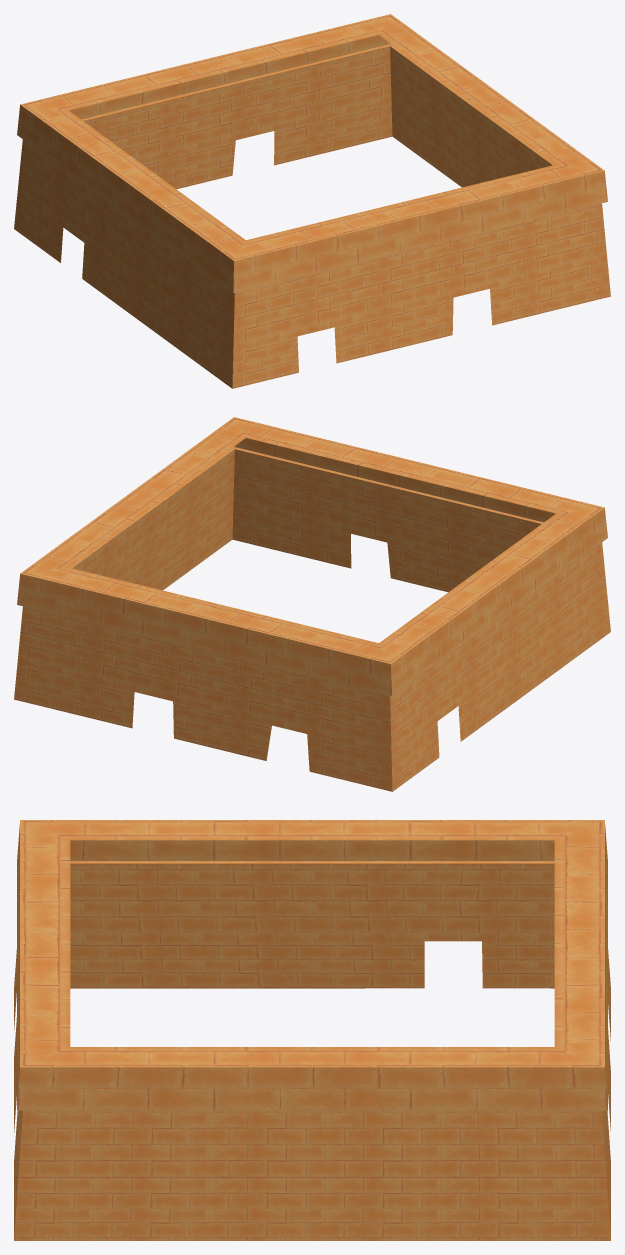
Rendered from TempleFloor02_Art.glb.
3 renders of one model, top to bottom at view 1: azimuth 30°, elevation 25°; view 2: azimuth 150°, elevation 25°; view 3: azimuth 270°, elevation 25°, orthographic. The views are drawn at different scales.
Visible parts, largest first — view 1: TempleFloor02_Art; view 2: TempleFloor02_Art; view 3: TempleFloor02_Art.
Part boxes in pixels (bbox=[...]): TempleFloor02_Art: bbox=[14, 14, 610, 388]; TempleFloor02_Art: bbox=[14, 417, 610, 791]; TempleFloor02_Art: bbox=[14, 820, 610, 1240].
Bounding box in the file's own units: 54.69 × 17.29 × 54.67.
Materials: 2 (2 with a texture image).
